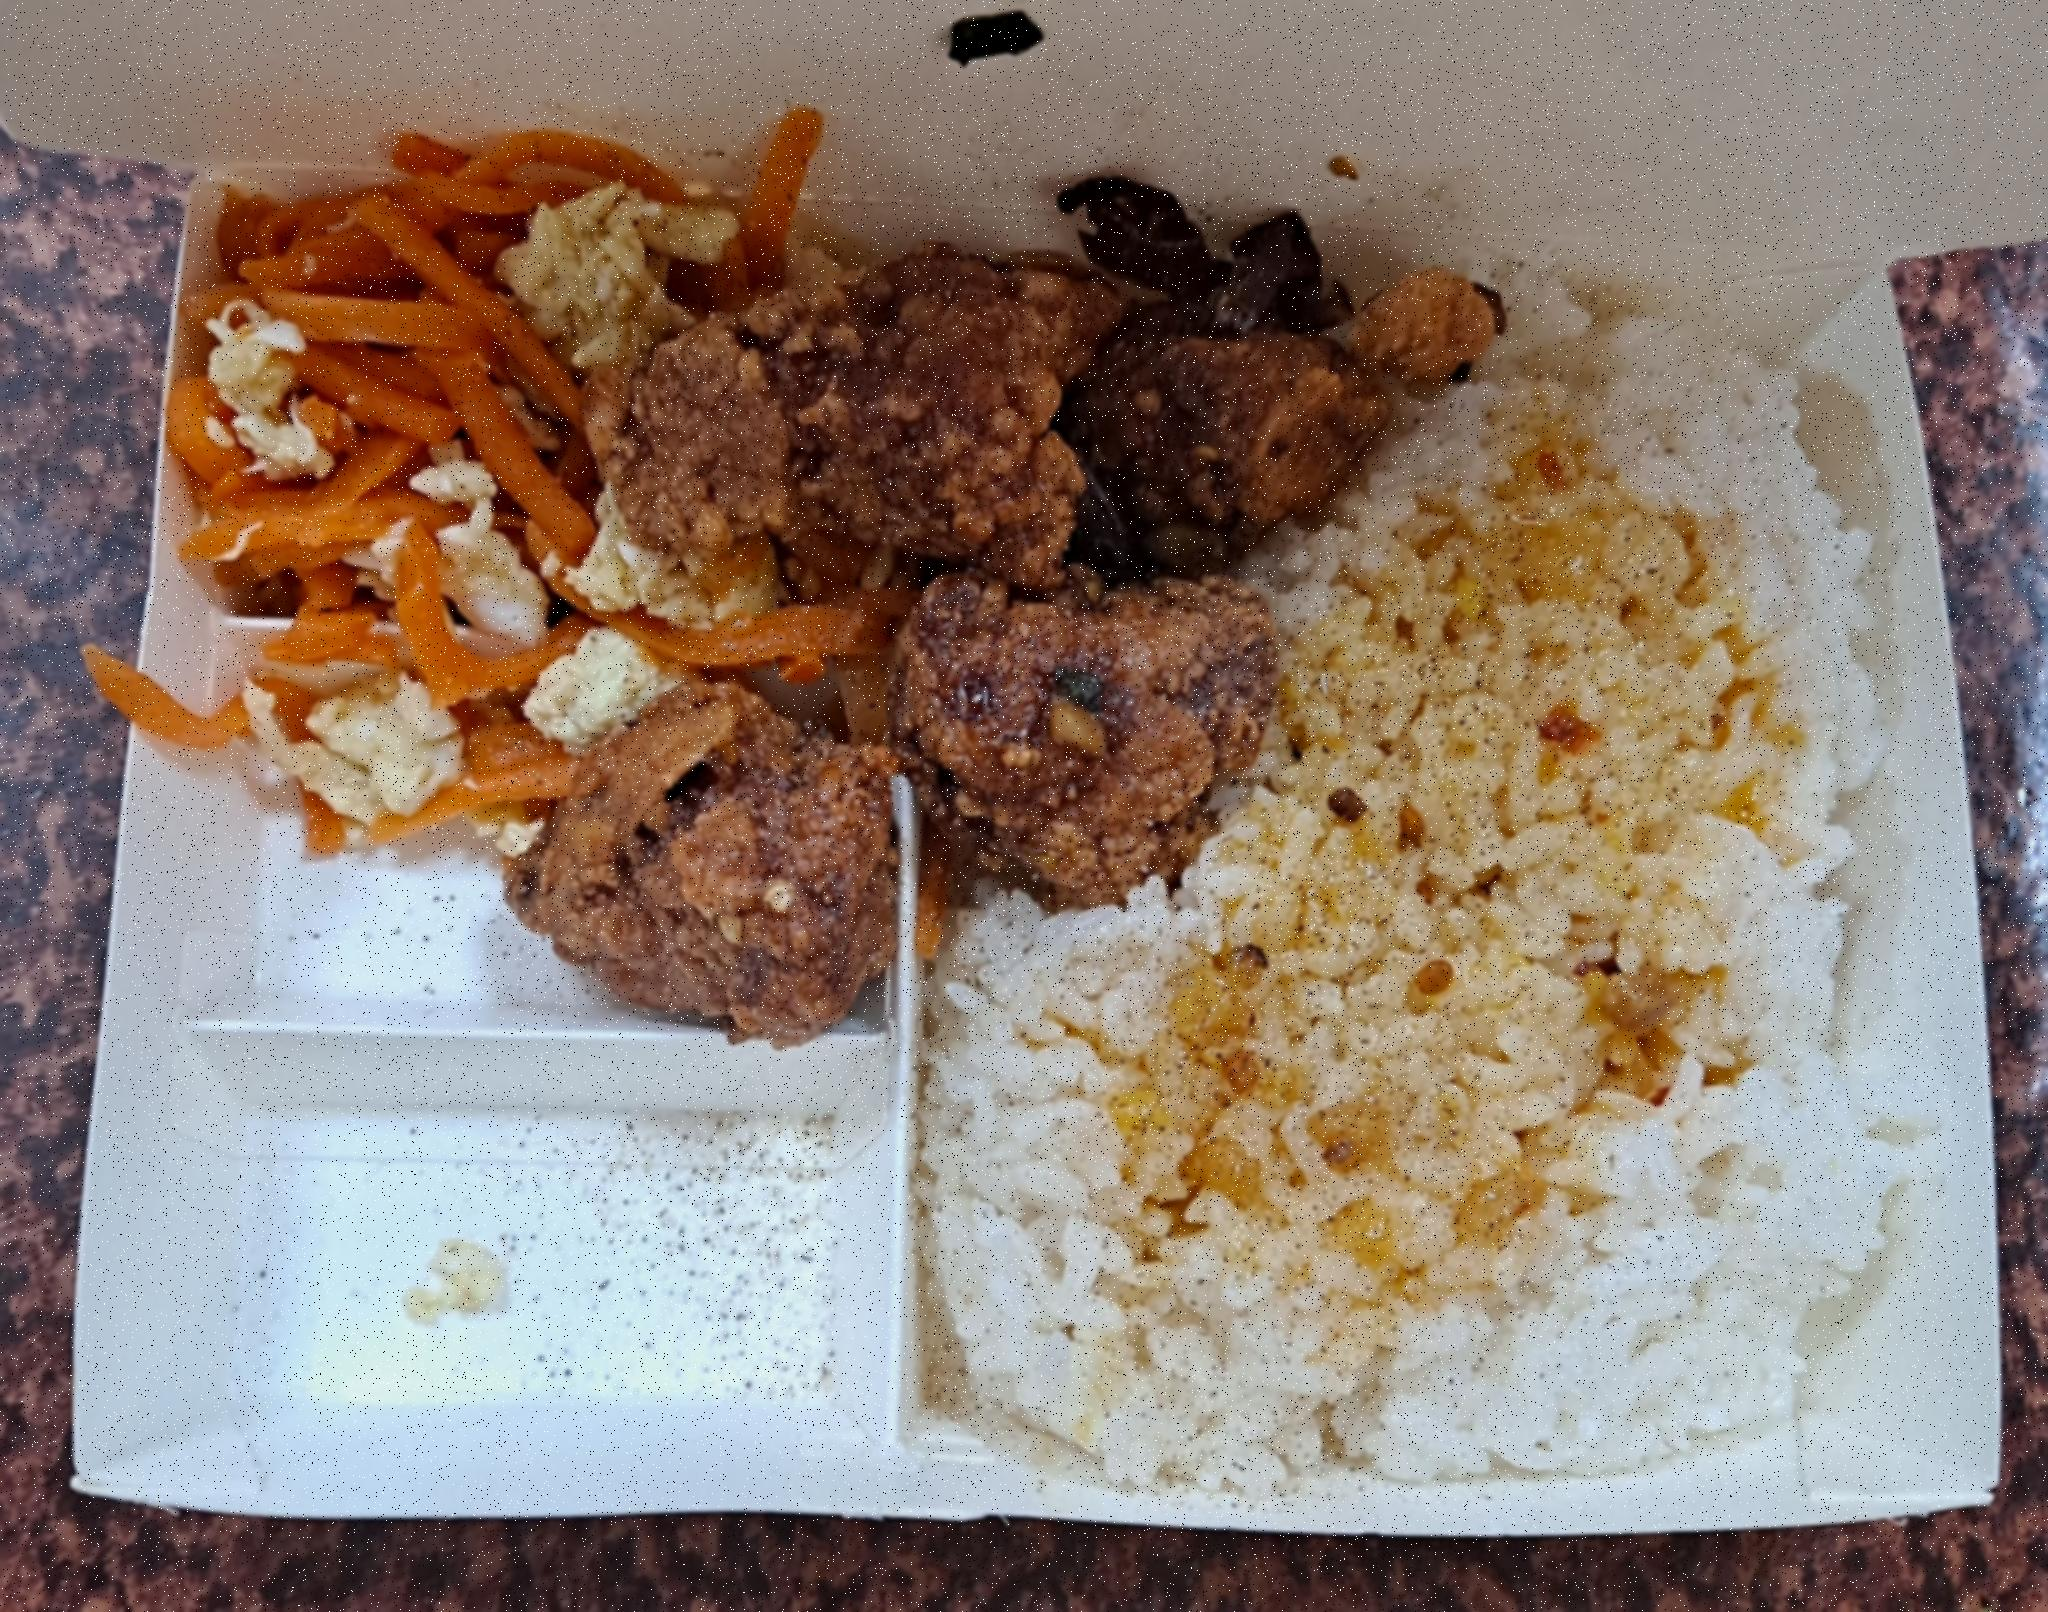big grilled chicken leg: (48, 131, 2030, 1557)
braised fish fillet: (933, 301, 1903, 1469), (181, 145, 825, 854)
braised pork: (512, 263, 1368, 1022)
